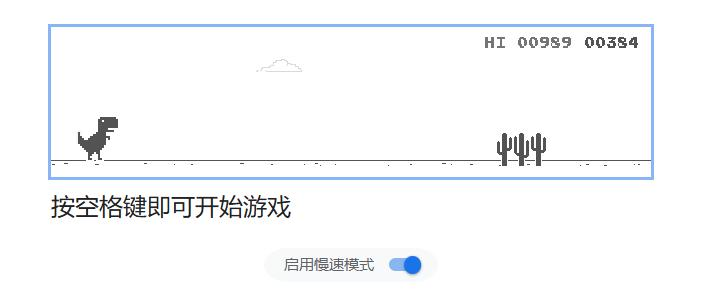cactus: (495, 132, 547, 168)
dino: (75, 116, 118, 162)
